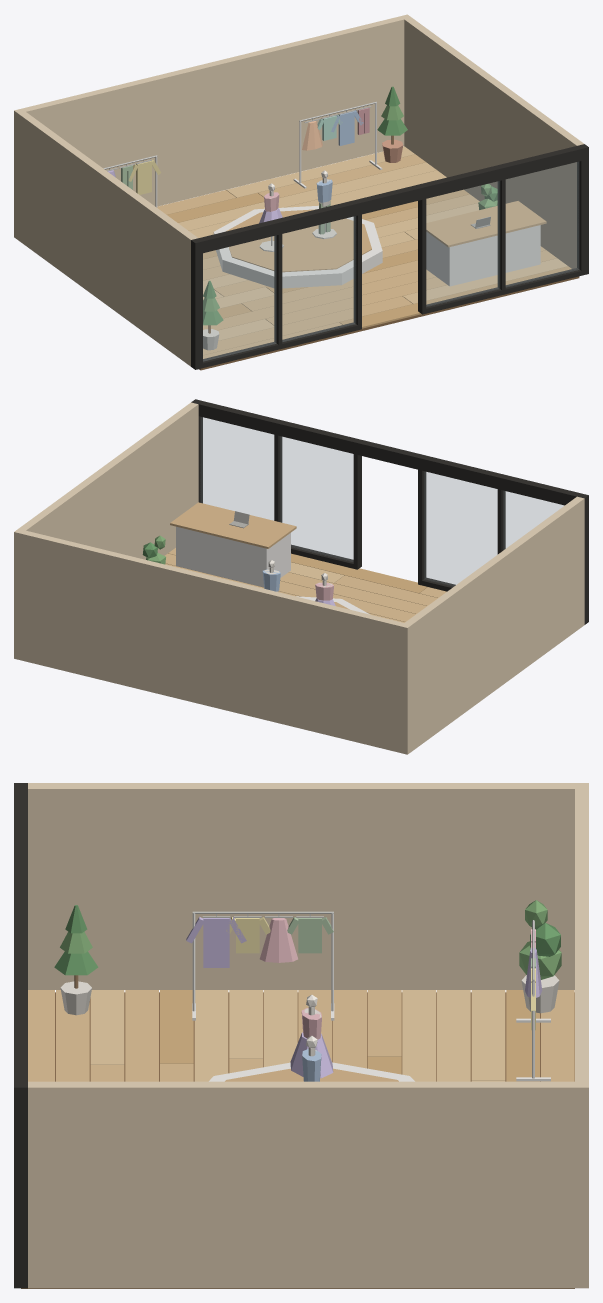
Rendered from FashionShowroom_v2.glb.
3 renders of one model, top to bottom at view 1: azimuth 30°, elevation 25°; view 2: azimuth 150°, elevation 25°; view 3: azimuth 270°, elevation 25°, orthographic. The views are drawn at different scales.
Parts seen in each view (by area): view 1: Wall_Back, Wall_Left, Wall_Right, Window_Glass_L, Window_Glass_R, Window_Header, Platform_Top, Counter_Body, Platform_Base, Counter_Top, Floor_Plank_13_1, Floor_Plank_03_0 (+32 smaller); view 2: Wall_Back, Wall_Left, Wall_Right, Window_Glass_R, Window_Glass_L, Window_Header, Counter_Body, Counter_Top, Floor_Plank_02_1, Floor_Plank_00_1, Floor_Plank_03_0, Floor_Plank_01_0 (+7 smaller); view 3: Wall_Right, Wall_Left, Wall_Back, Window_Header, Floor_Plank_13_0, Floor_Plank_11_0, Floor_Plank_03_0, Floor_Plank_12_0, Floor_Plank_05_0, Floor_Plank_15_0, Floor_Plank_02_0, Floor_Plank_09_0 (+22 smaller).
Part boxes in pixels (x1=…): Wall_Back: x1=14, y1=14, x2=411, y2=239; Wall_Left: x1=18, y1=112, x2=197, y2=366; Wall_Right: x1=404, y1=17, x2=583, y2=268; Window_Glass_L: x1=203, y1=216, x2=355, y2=361; Window_Glass_R: x1=426, y1=162, x2=578, y2=306; Window_Header: x1=191, y1=144, x2=588, y2=254; Platform_Top: x1=226, y1=209, x2=371, y2=272; Counter_Body: x1=426, y1=225, x2=540, y2=286; Platform_Base: x1=213, y1=205, x2=382, y2=288; Counter_Top: x1=426, y1=201, x2=546, y2=247; Floor_Plank_13_1: x1=178, y1=162, x2=436, y2=230; Floor_Plank_03_0: x1=203, y1=269, x2=436, y2=330; Wall_Back: x1=14, y1=529, x2=411, y2=754; Wall_Left: x1=405, y1=496, x2=584, y2=751; Wall_Right: x1=18, y1=402, x2=198, y2=559; Window_Glass_R: x1=201, y1=417, x2=353, y2=561; Window_Glass_L: x1=424, y1=472, x2=563, y2=585; Window_Header: x1=191, y1=399, x2=588, y2=509; Counter_Body: x1=176, y1=526, x2=290, y2=587; Counter_Top: x1=170, y1=502, x2=296, y2=548; Floor_Plank_02_1: x1=168, y1=548, x2=426, y2=613; Floor_Plank_00_1: x1=291, y1=553, x2=427, y2=593; Floor_Plank_03_0: x1=258, y1=581, x2=415, y2=621; Floor_Plank_01_0: x1=334, y1=575, x2=437, y2=605; Wall_Right: x1=28, y1=1081, x2=574, y2=1288; Wall_Left: x1=28, y1=783, x2=574, y2=989; Wall_Back: x1=575, y1=783, x2=588, y2=1288; Window_Header: x1=14, y1=783, x2=27, y2=1106; Floor_Plank_13_0: x1=471, y1=990, x2=505, y2=1080; Floor_Plank_11_0: x1=402, y1=990, x2=436, y2=1081; Floor_Plank_03_0: x1=125, y1=990, x2=158, y2=1081; Floor_Plank_12_0: x1=437, y1=990, x2=470, y2=1081; Floor_Plank_05_0: x1=194, y1=990, x2=228, y2=1081; Floor_Plank_15_0: x1=541, y1=990, x2=574, y2=1081; Floor_Plank_02_0: x1=90, y1=990, x2=124, y2=1064; Floor_Plank_09_0: x1=333, y1=990, x2=366, y2=1068.
Size of what is drawn, in the model's own units: 10.4 by 3.3 by 8.3.
